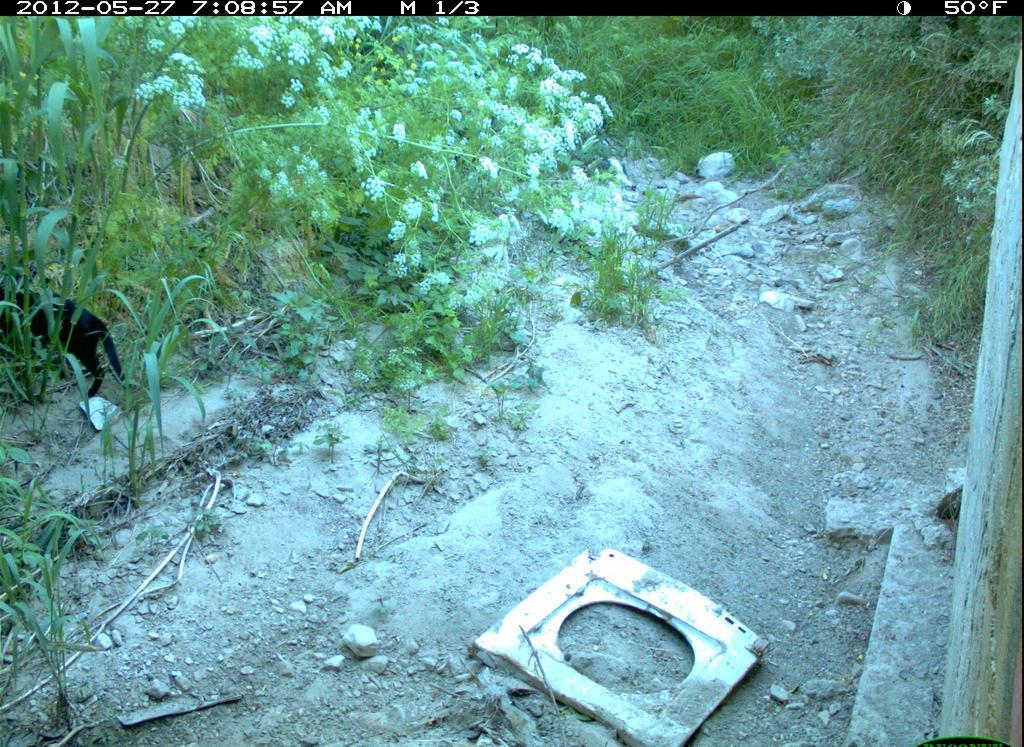cat: (3, 259, 146, 397)
